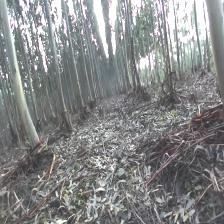trunk: (0, 0, 40, 147), (44, 8, 73, 131), (162, 7, 176, 100), (70, 46, 84, 110), (194, 7, 204, 70)
